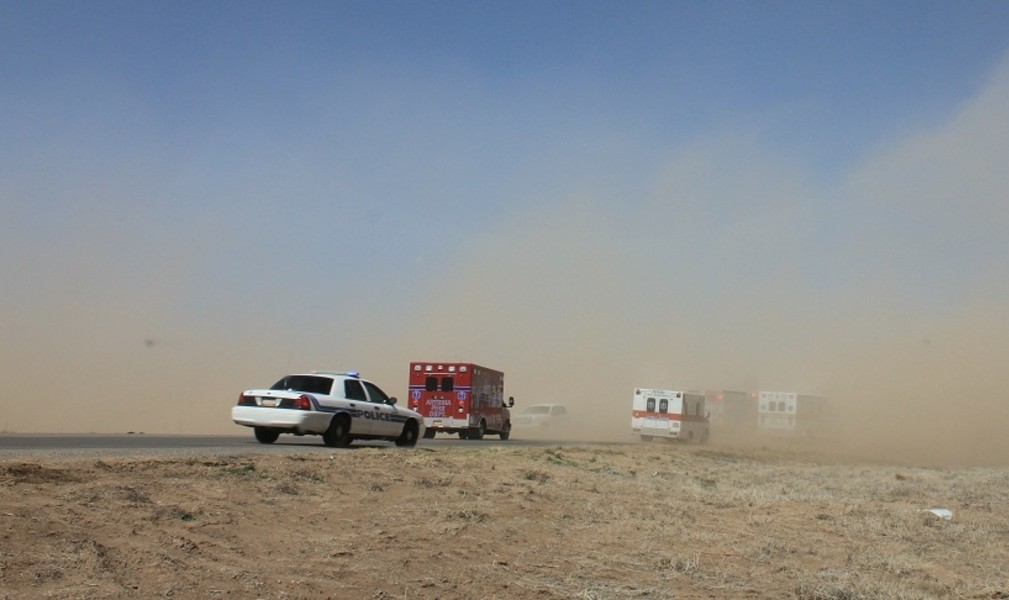car: (230, 367, 420, 445), (757, 388, 845, 445), (630, 384, 706, 441), (511, 395, 582, 433), (707, 389, 757, 441)
truck: (402, 360, 513, 441)
